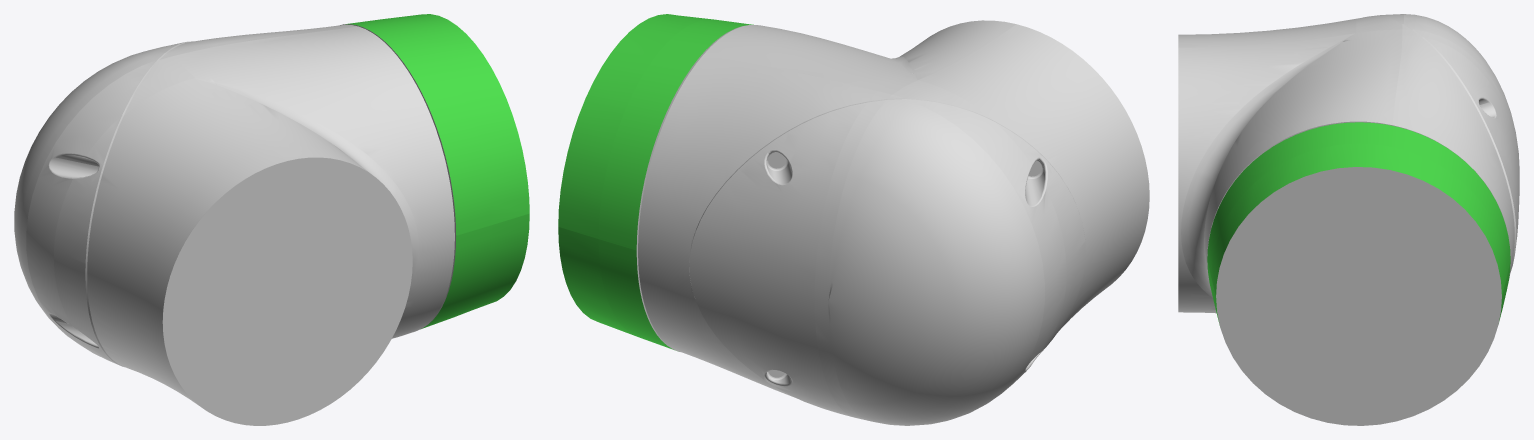
3 renders of one model, left to right at view 1: azimuth 30°, elevation 25°; view 2: azimuth 150°, elevation 25°; view 3: azimuth 270°, elevation 25°, orthographic. The views are drawn at different scales.
Parts seen in each view (by area): view 1: Mesh_0; view 2: Mesh_0; view 3: Mesh_0.
Boxes of the visible parts, <box> form: Mesh_0: <box>14,14,529,425</box>; Mesh_0: <box>558,14,1149,425</box>; Mesh_0: <box>1178,14,1519,425</box>.
Bounding box in the file's own units: 0.1558 × 0.1181 × 0.11.
